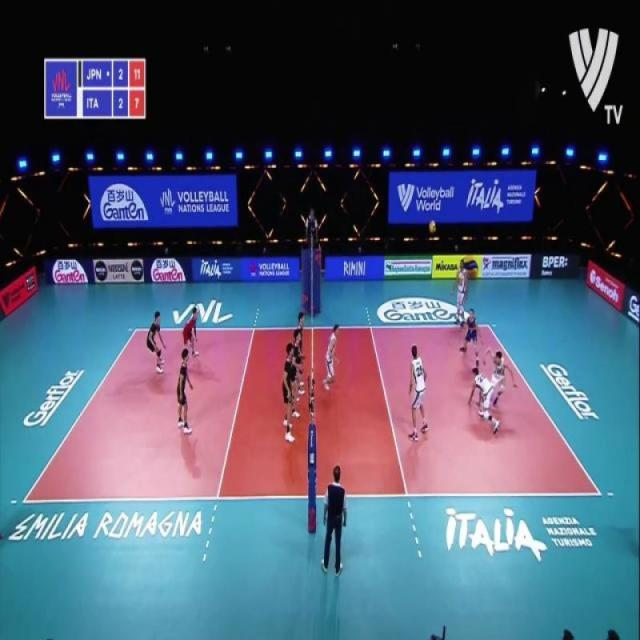volleyball: (460, 253, 480, 280), (429, 219, 437, 234)
